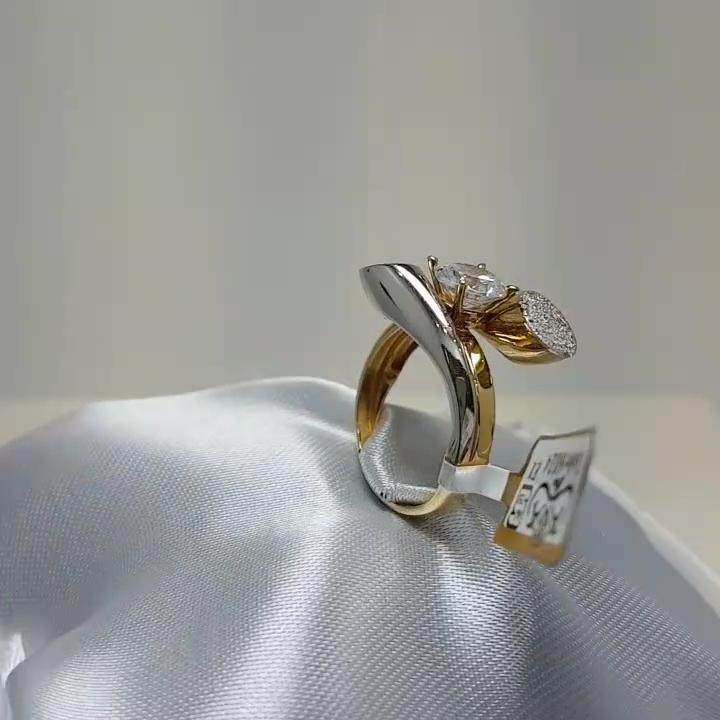Ring 7: (313, 248, 583, 514)
